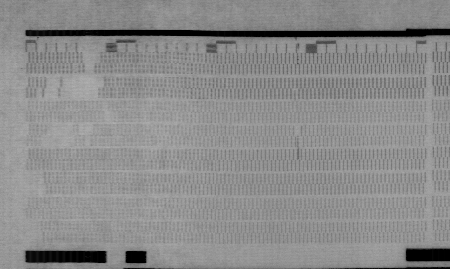Broken hole: (34, 75, 105, 100), (38, 124, 76, 148), (24, 168, 50, 197), (24, 218, 46, 243), (80, 52, 102, 74), (78, 124, 95, 149), (293, 125, 303, 136)
Oblique printing: (290, 87, 302, 102), (294, 135, 306, 148)
